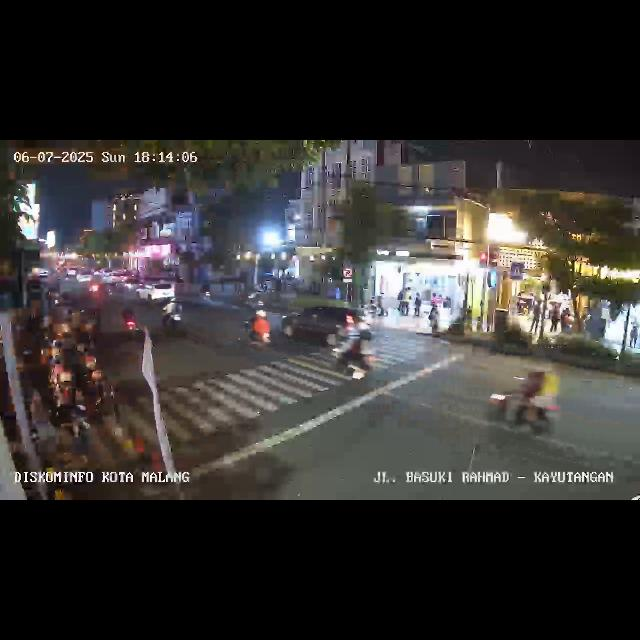car: (282, 306, 360, 348), (133, 280, 177, 304)
motorcycle: (485, 370, 561, 440), (328, 321, 376, 385), (246, 306, 272, 350), (160, 296, 186, 336), (120, 306, 142, 342), (199, 280, 213, 304)
person: (549, 302, 561, 334), (561, 304, 573, 334), (532, 301, 542, 337), (428, 302, 438, 336), (628, 322, 638, 350), (402, 286, 411, 316), (413, 292, 421, 318)
